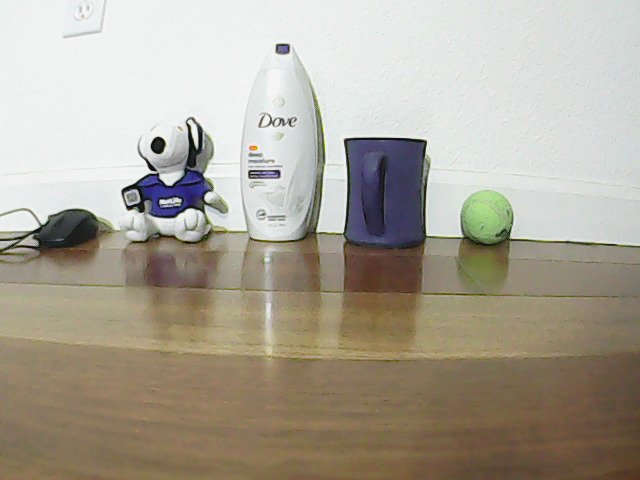ball: (458, 185, 523, 254)
mouse: (33, 201, 100, 254)
mug: (344, 124, 439, 252)
snoopy: (130, 109, 225, 240)
soap: (248, 41, 321, 239)
